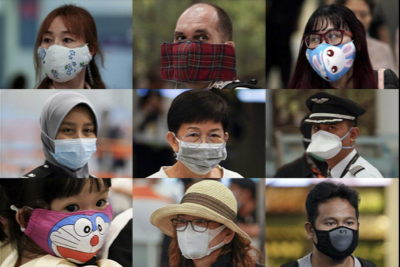with_mask: (30, 182, 110, 264), (170, 29, 222, 85), (303, 25, 354, 81), (38, 28, 86, 81), (310, 210, 357, 260), (171, 212, 221, 259), (173, 123, 223, 169), (52, 118, 96, 169), (309, 121, 348, 158)
